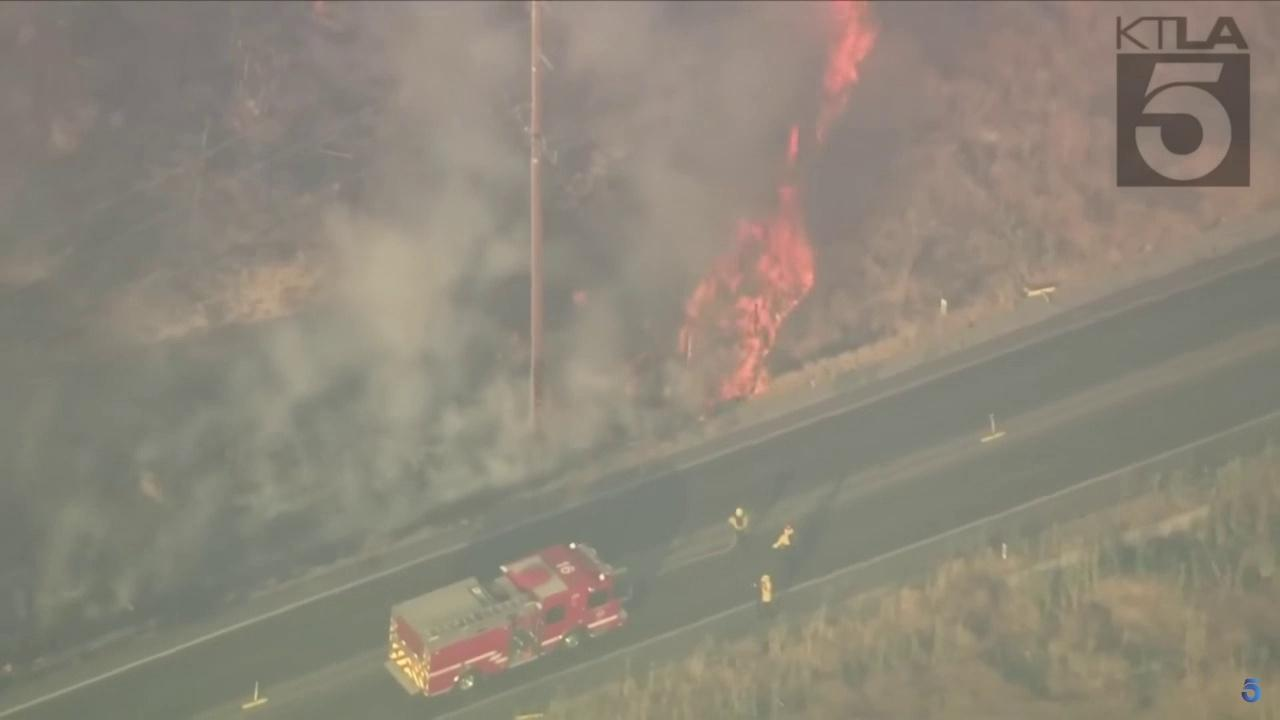fire: (673, 185, 818, 416), (812, 0, 881, 143), (783, 124, 800, 169), (571, 289, 590, 308)
smoke: (0, 0, 919, 658)
